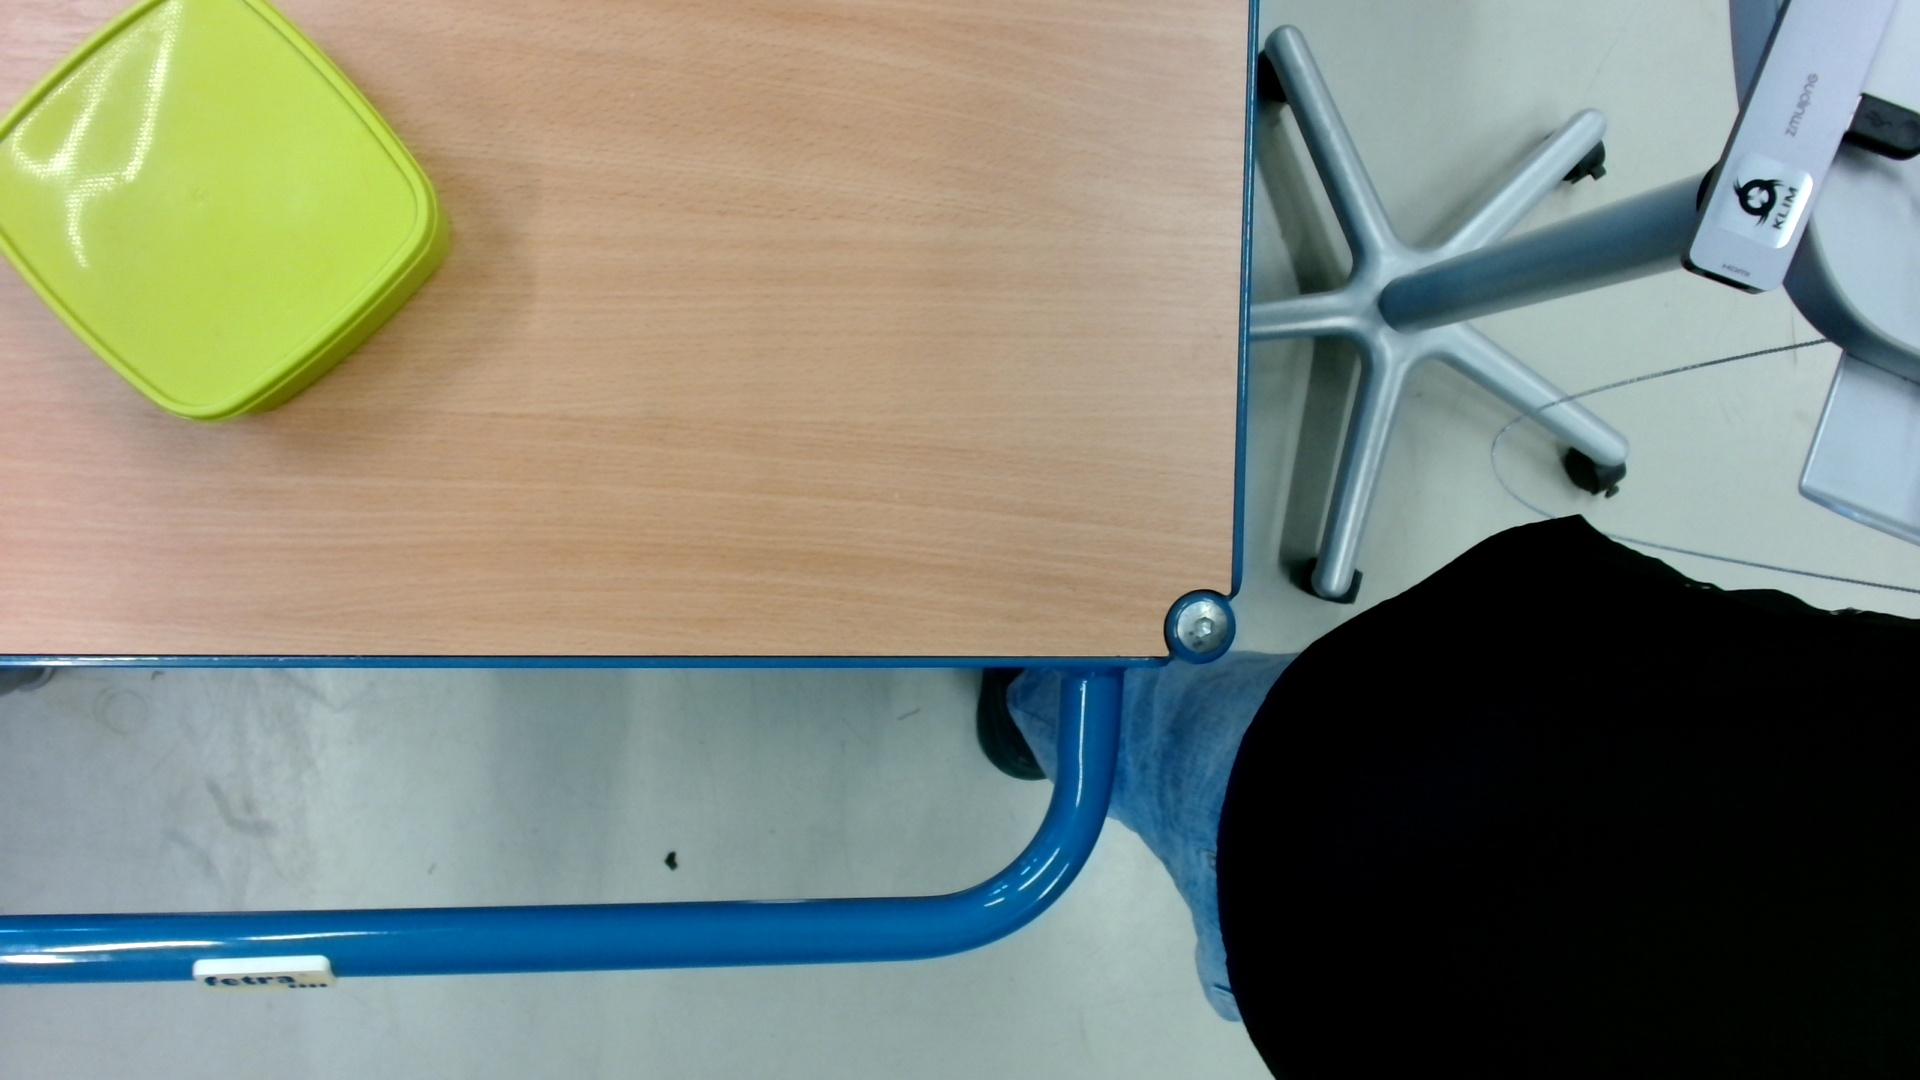Box: (1, 1, 459, 436)
